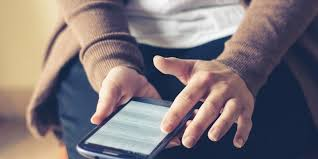Cell Phone: (78, 93, 200, 159)
